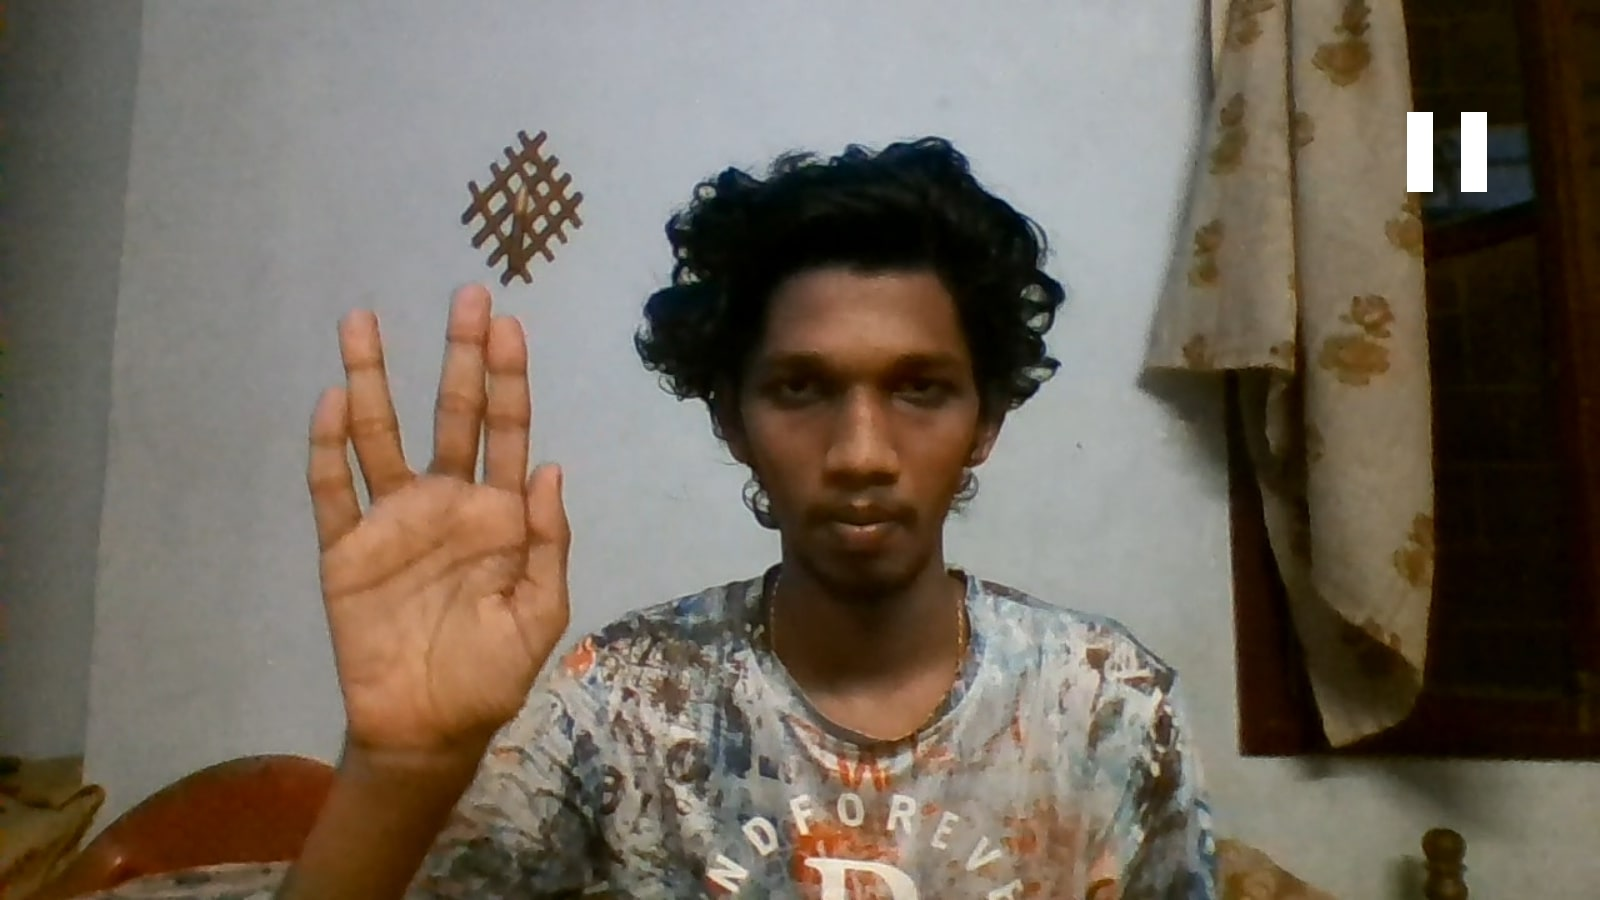LiveLong: (307, 282, 569, 763)
